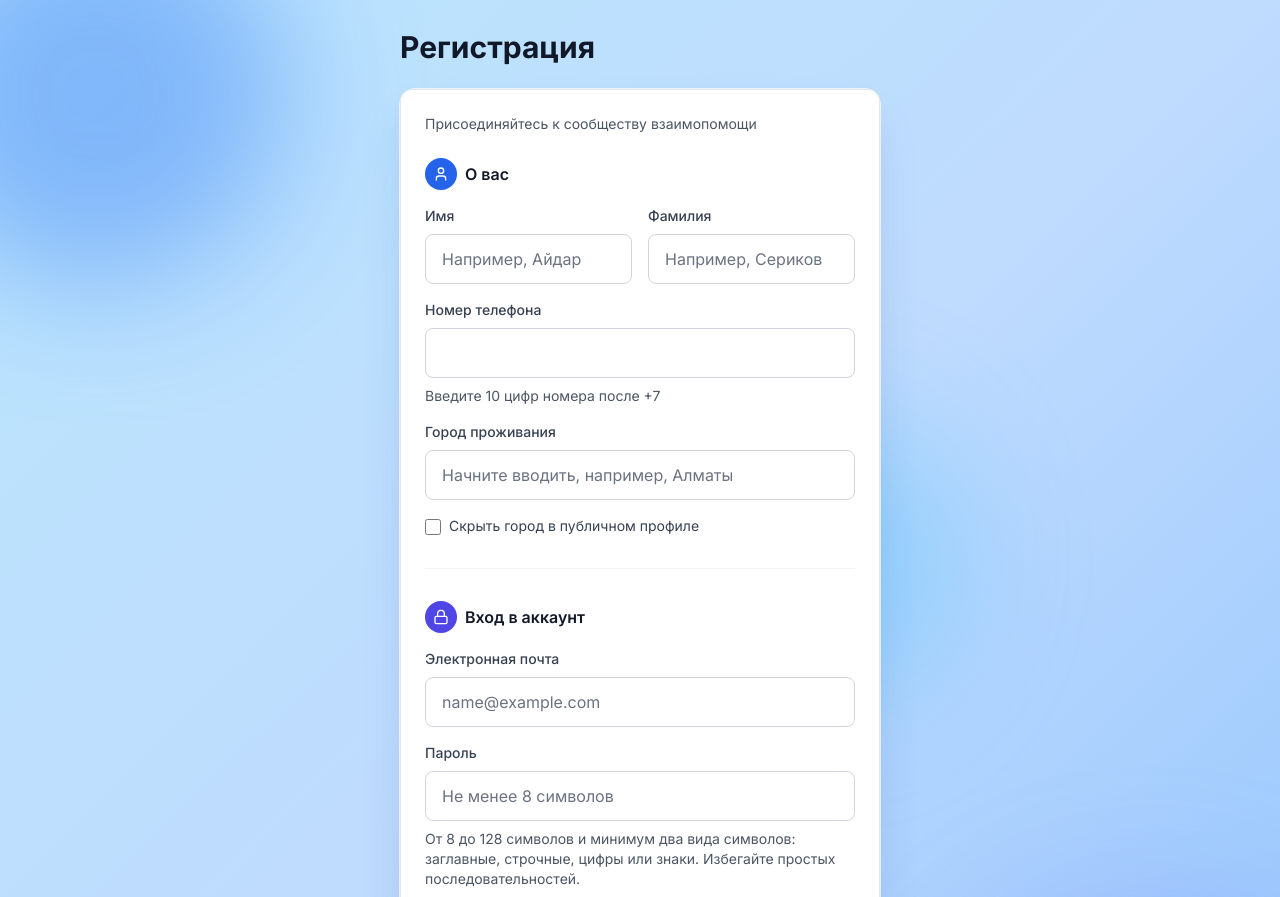
Test: signup button accepts three conditions and requires matching confirmation
Type "RiverStone" into the password field labelled "Пароль".
click(640, 796); type("RiverStone")  # box [425,771,855,821]
(page scrolled)
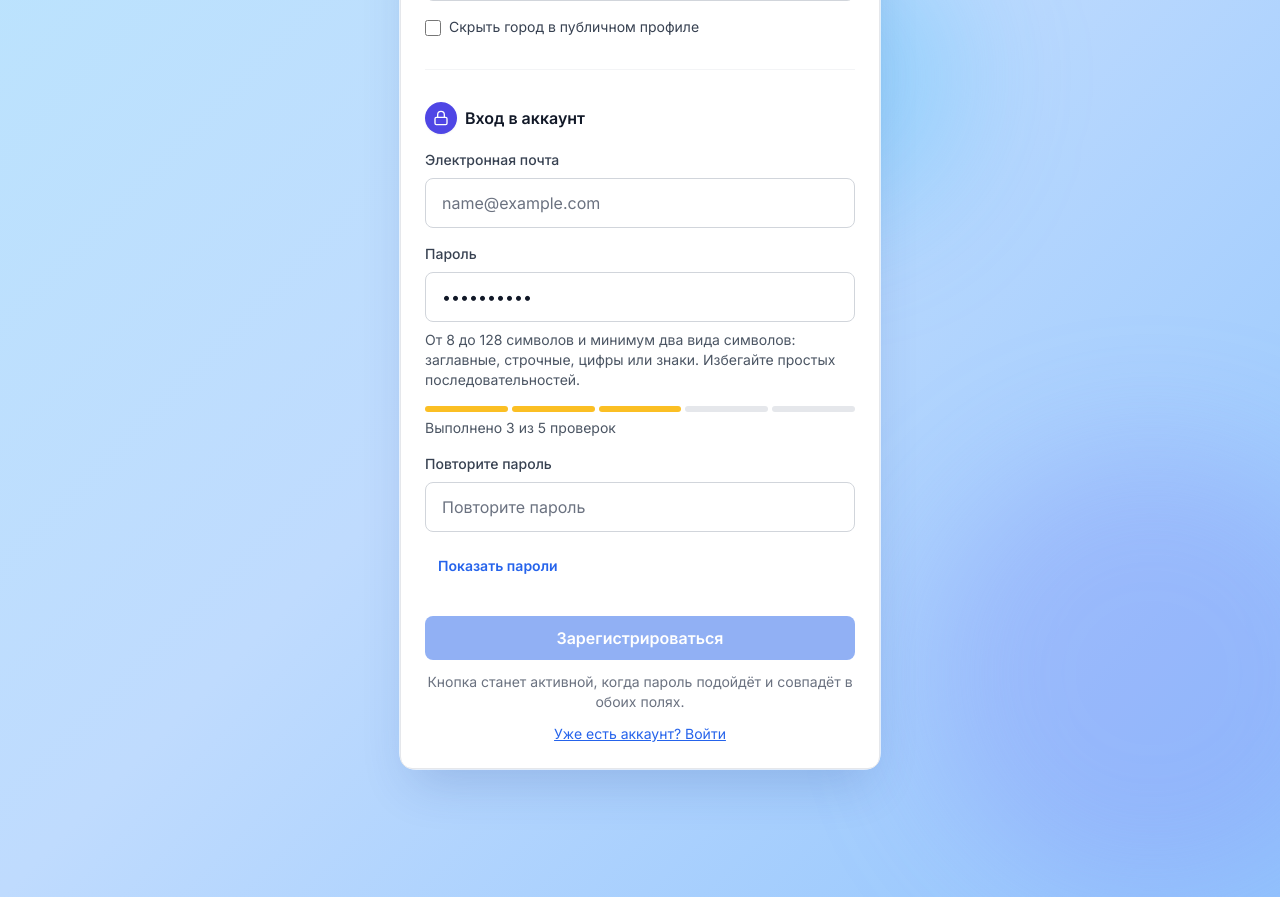
Type "RiverStone" into the password field with placeholder "Повторите пароль".
click(640, 507); type("RiverStone")  # box [425,482,855,532]
(page scrolled)
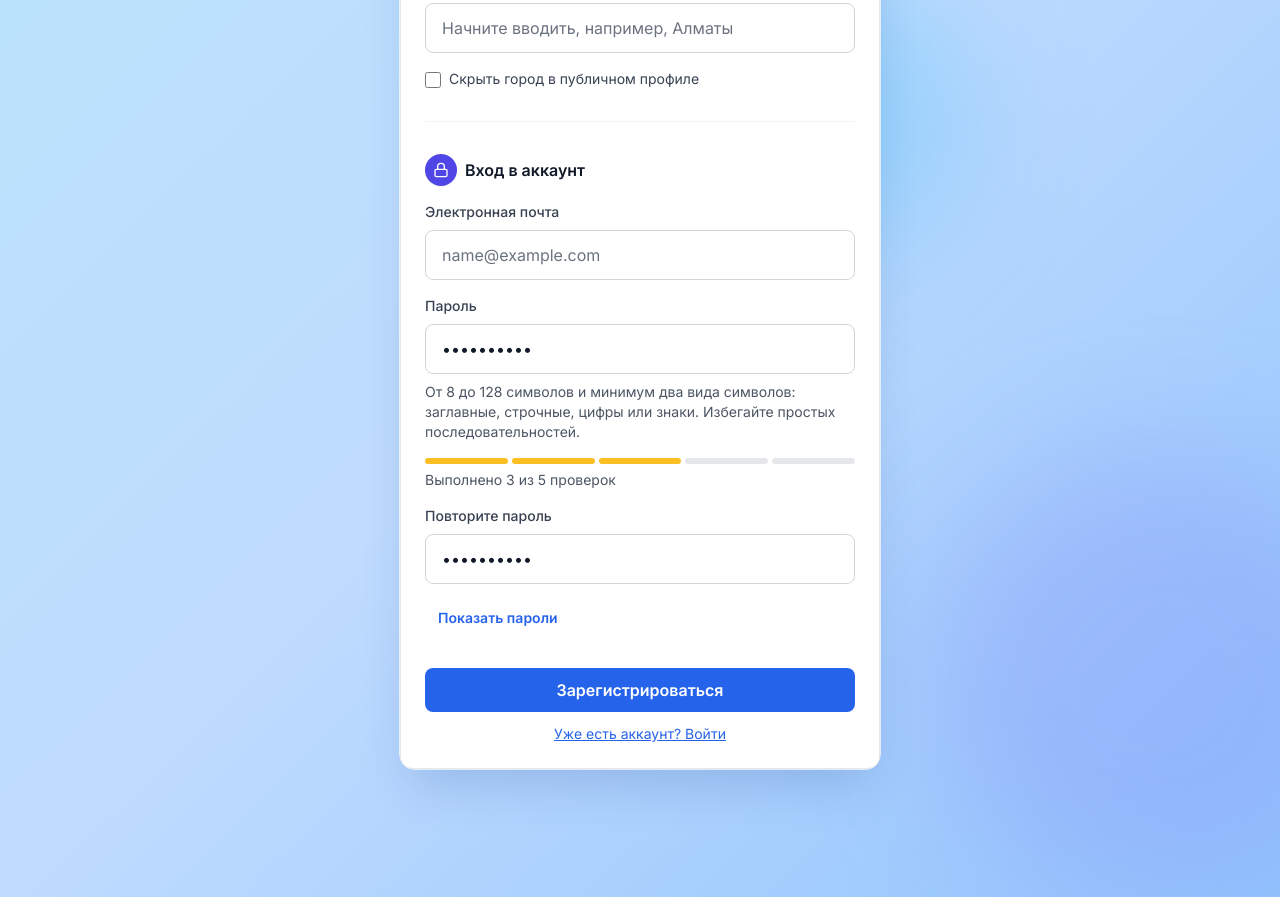
expect the text "Выполнено 3 из 5 проверок" is shown: met, box [425,471,616,488]
expect the button "Зарегистрироваться" is enabled: met, box [425,668,855,712]
Type "Different" into the password field with placeholder "Повторите пароль".
click(640, 559); type("Different")  # box [425,534,855,584]
(page scrolled)
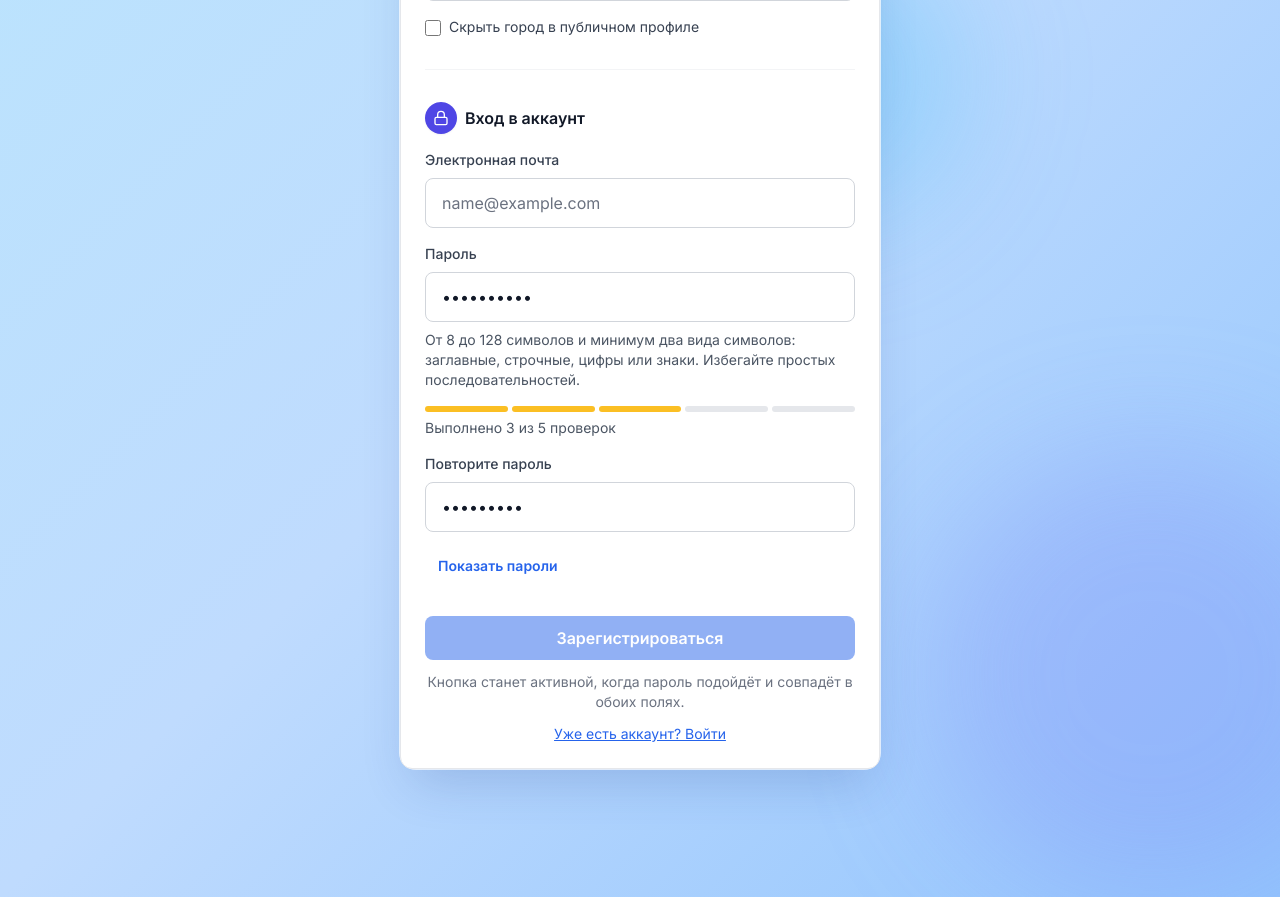
expect the button "Зарегистрироваться" is disabled: met, box [425,616,855,660]
